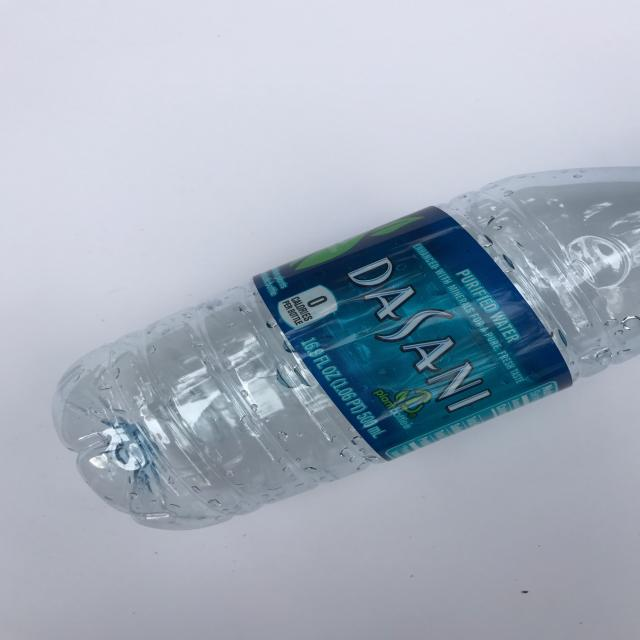plastic: (50, 164, 640, 531)
